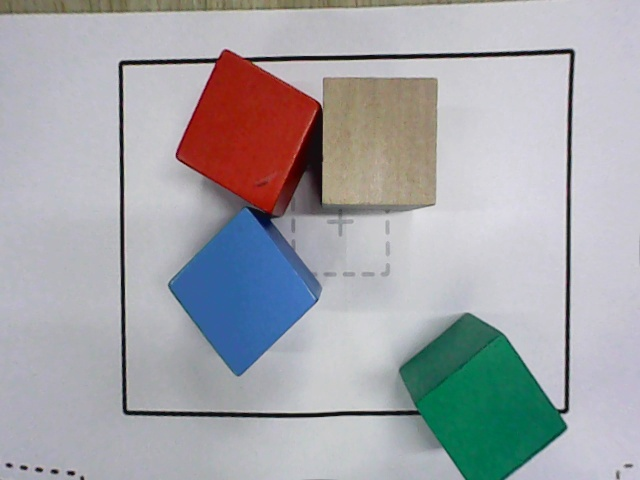upside of big cube: (167, 208, 319, 379), (175, 48, 320, 214), (414, 334, 568, 479), (322, 79, 439, 205)
